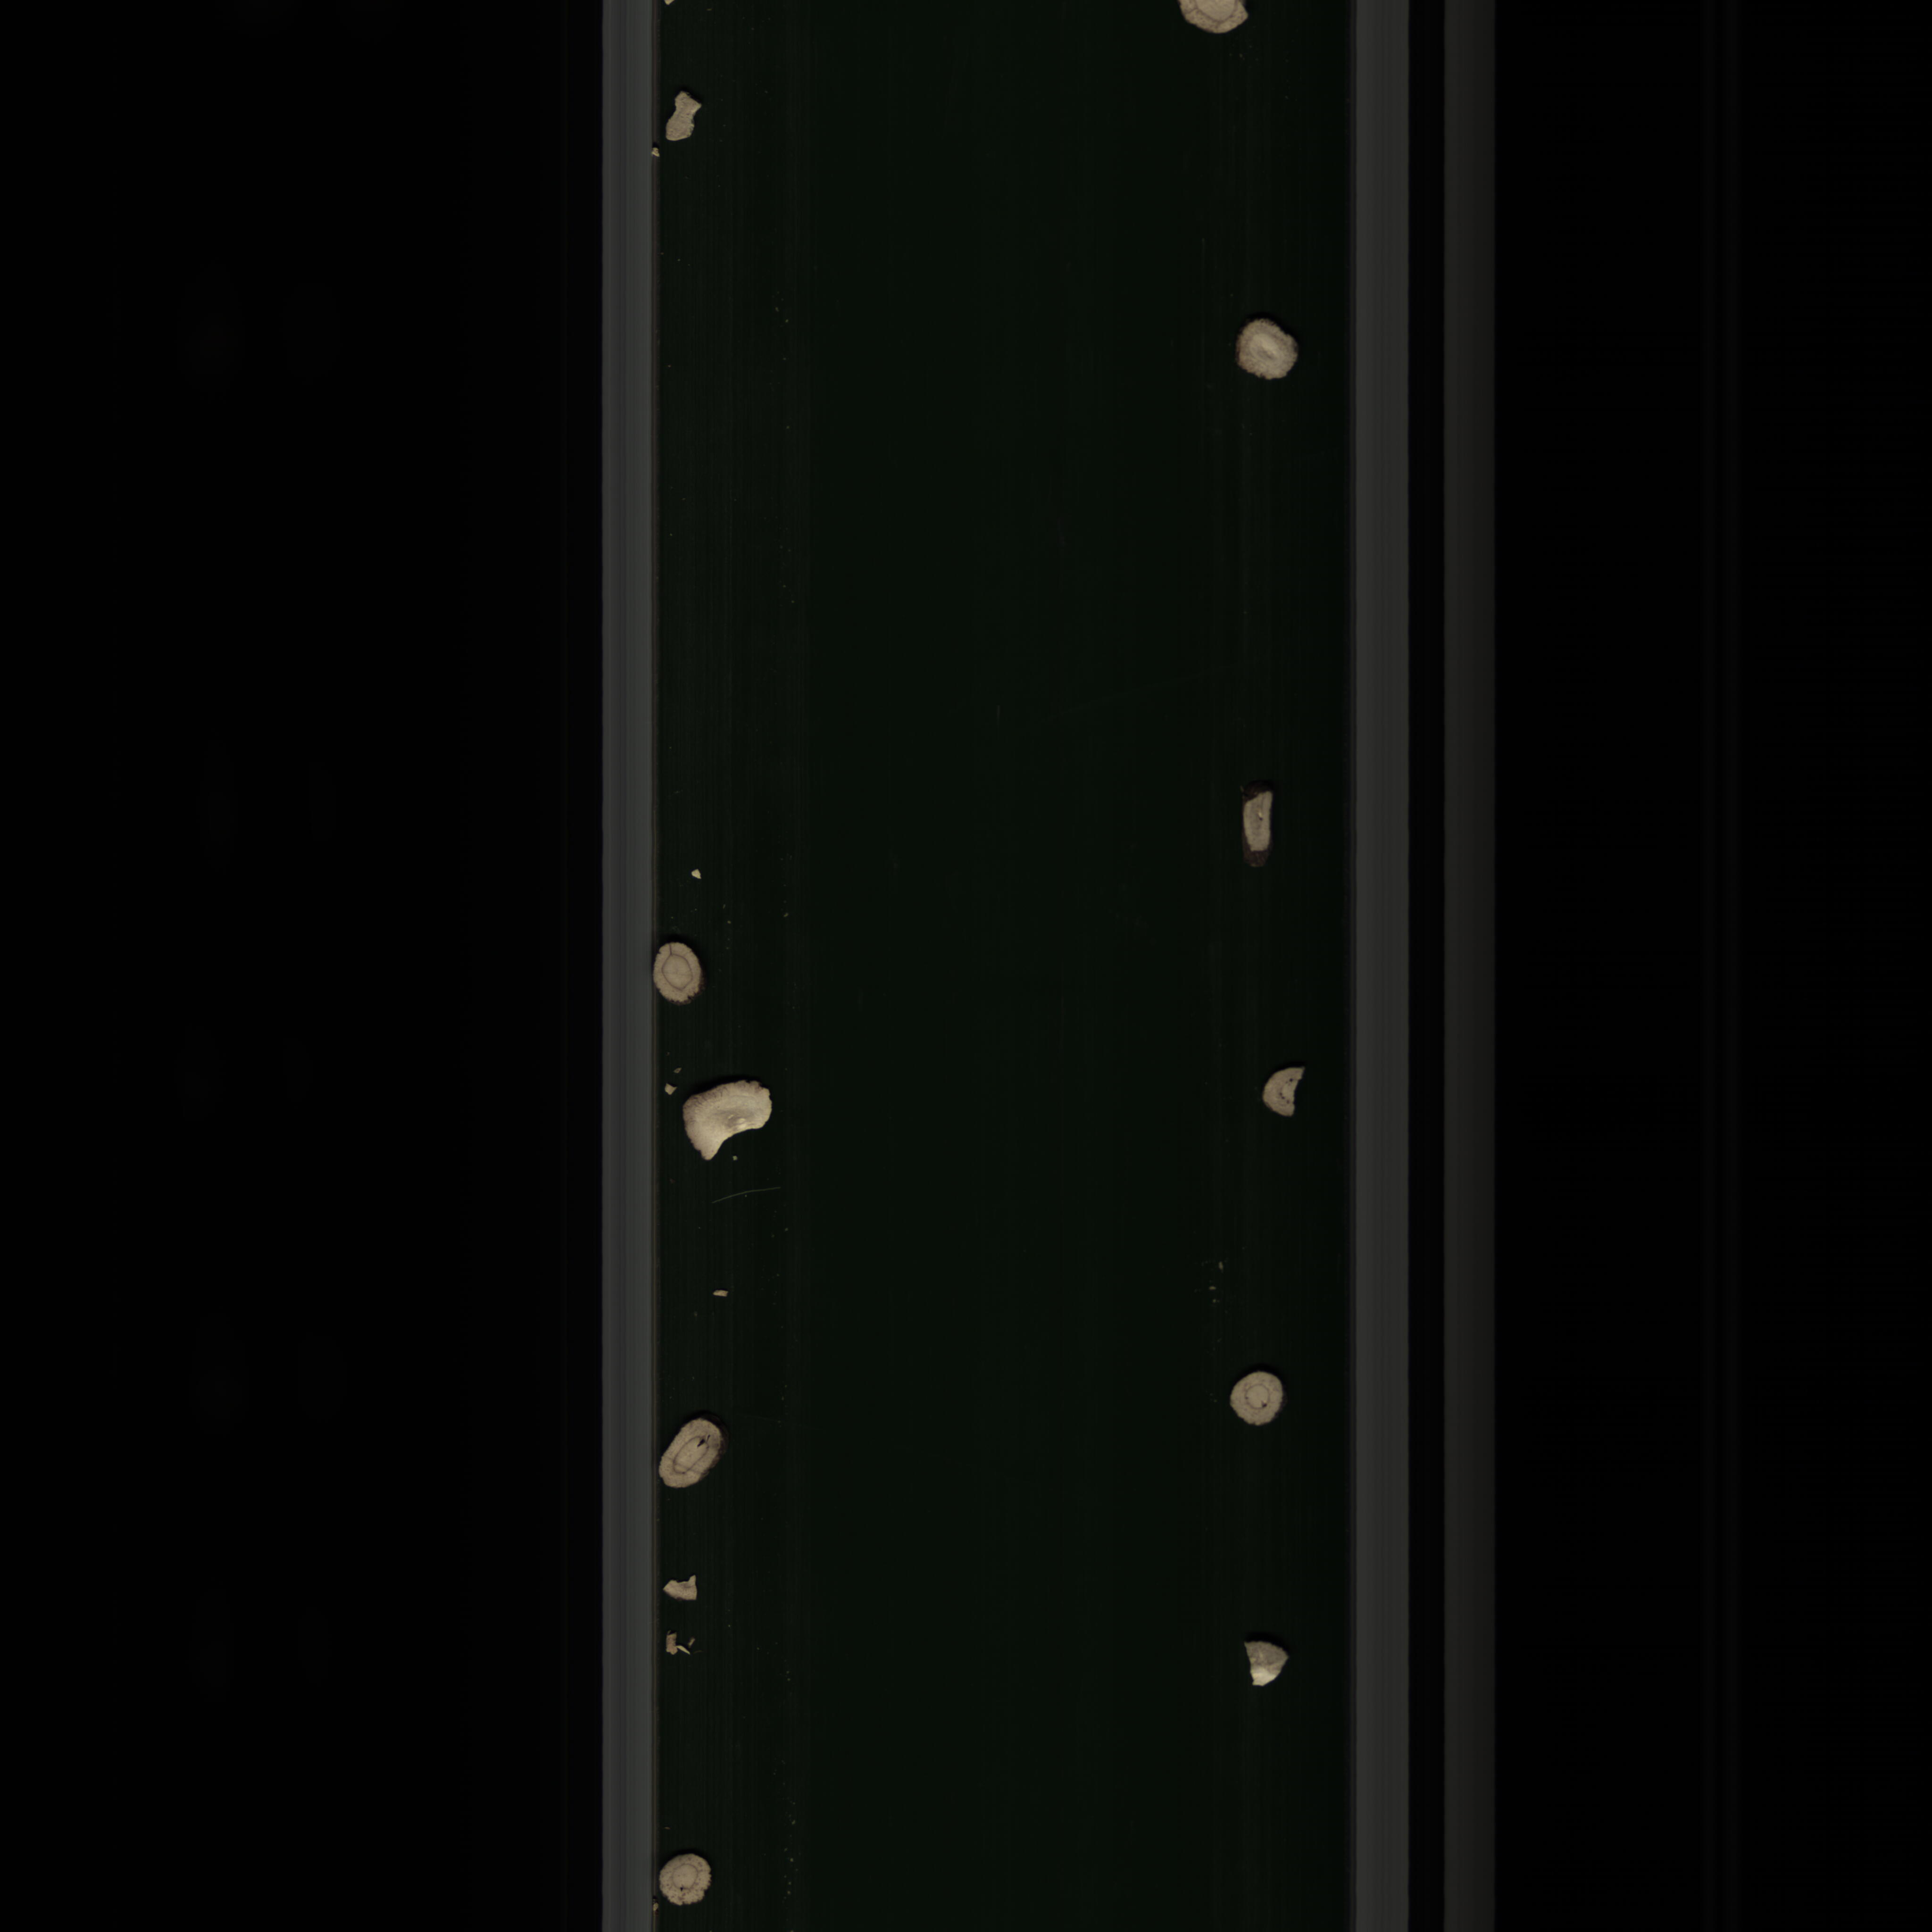bark: (1235, 771, 1302, 879)
debris: (678, 1081, 787, 1168), (1228, 1633, 1292, 1695), (1258, 1058, 1309, 1123), (662, 88, 709, 150), (663, 1571, 706, 1608)
hole: (656, 1410, 741, 1499)
